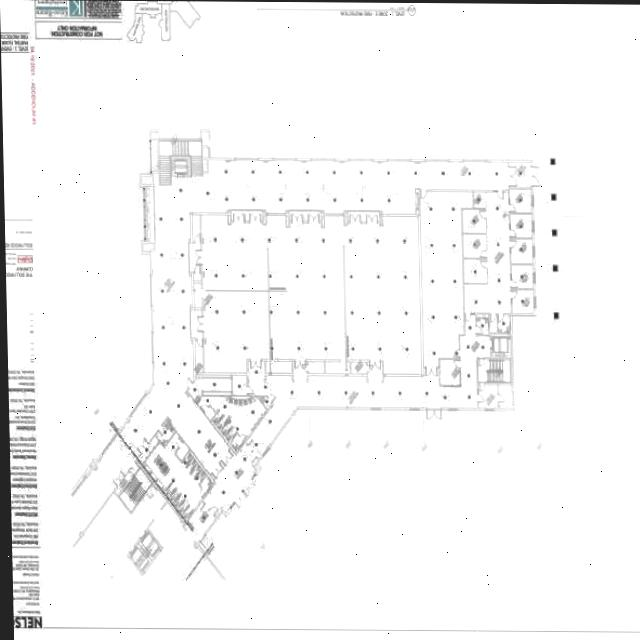room: (191, 215, 423, 374), (419, 190, 475, 368), (141, 431, 221, 516), (195, 371, 270, 443), (200, 443, 266, 520), (159, 140, 203, 185), (116, 468, 155, 512), (478, 359, 511, 383), (135, 436, 160, 466), (153, 419, 178, 447), (463, 259, 487, 284), (463, 234, 486, 259), (462, 209, 485, 234), (512, 289, 534, 315), (510, 213, 532, 238), (511, 239, 533, 264), (511, 264, 533, 289), (440, 359, 460, 386), (510, 189, 532, 213), (478, 384, 498, 409), (499, 384, 512, 409), (174, 442, 191, 461), (232, 375, 247, 396), (266, 361, 292, 373), (198, 476, 215, 494), (229, 434, 246, 452), (498, 315, 511, 333), (477, 318, 489, 335), (185, 458, 198, 473), (190, 464, 203, 479), (212, 410, 225, 425), (351, 362, 367, 374), (308, 361, 324, 373), (181, 453, 194, 467), (194, 470, 207, 484), (168, 489, 181, 503), (173, 495, 186, 509), (177, 500, 190, 514), (182, 506, 195, 520), (216, 416, 229, 430), (225, 428, 238, 442), (164, 483, 176, 497), (221, 422, 233, 436), (490, 315, 497, 333)
